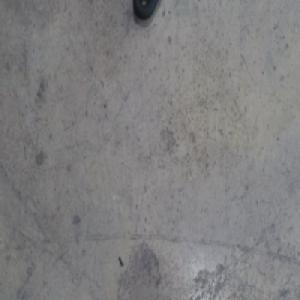AdjustableWrench: (131, 0, 157, 20)
